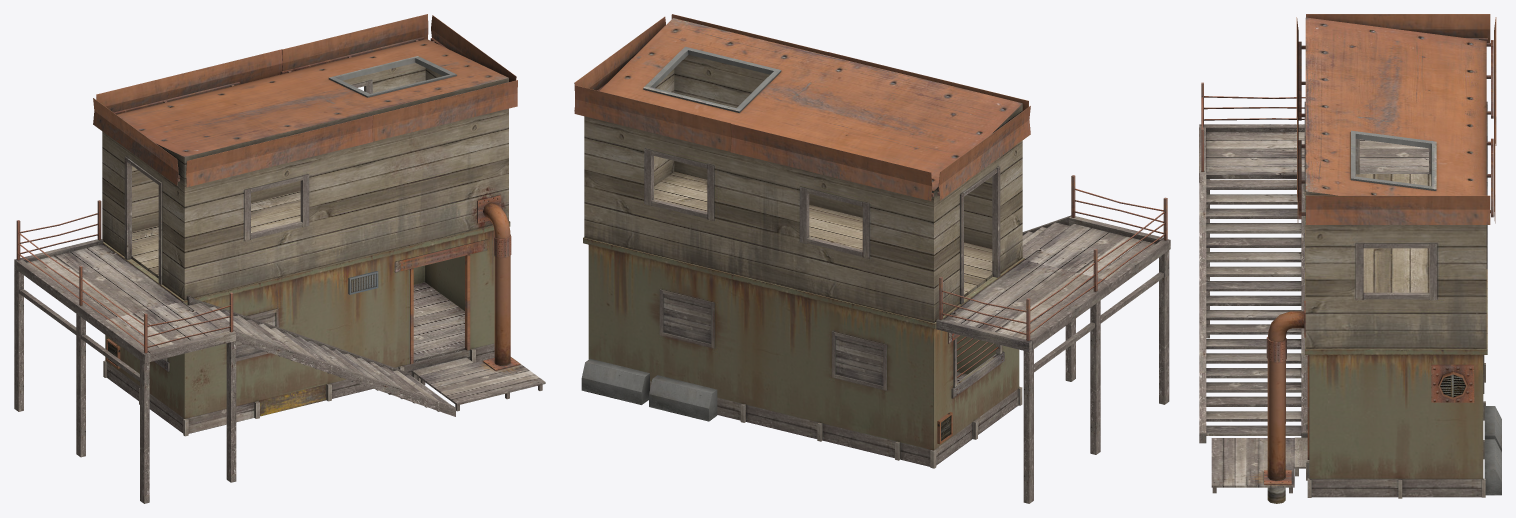
Rendered from shanty.glb.
3 renders of one model, left to right at view 1: azimuth 30°, elevation 25°; view 2: azimuth 150°, elevation 25°; view 3: azimuth 270°, elevation 25°, orthographic. The views are drawn at different scales.
Visible parts, largest first — view 1: 2ND Building, 1ST Building, 3 Sets; view 2: 2ND Building, 1ST Building, 3 Sets; view 3: 2ND Building, 3 Sets, 1ST Building.
Part boxes in pixels (x1,y1,x2,y2): 2ND Building: (93,14,517,300); 1ST Building: (103,221,510,436); 3 Sets: (14,195,545,503); 2ND Building: (574,14,1030,322); 1ST Building: (583,237,1024,468); 3 Sets: (581,175,1170,503); 2ND Building: (1296,14,1496,348); 3 Sets: (1199,82,1501,503); 1ST Building: (1294,192,1487,498).
Size of the model in its own units: 18.39 by 12.16 by 10.44.
Materials: 3 (3 with a texture image).
